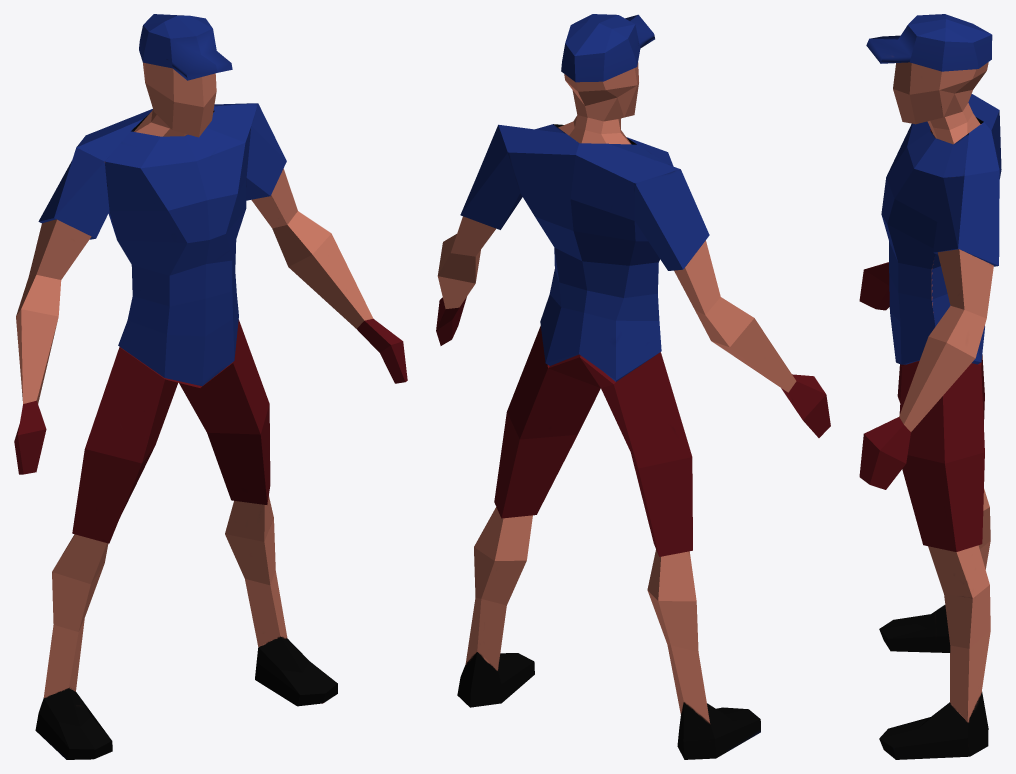
Rendered from Modelo_base.glb.
3 views of the same model, side by side, from view 1: azimuth 30°, elevation 25°; view 2: azimuth 150°, elevation 25°; view 3: azimuth 270°, elevation 25° (orthographic). The views are drawn at different scales.
Parts seen in each view (by area): view 1: BASE_Low Poly Man; view 2: BASE_Low Poly Man; view 3: BASE_Low Poly Man.
Boxes of the visible parts, left/top/right/bottom form: BASE_Low Poly Man: left=14, top=14, right=407, bottom=759; BASE_Low Poly Man: left=436, top=14, right=830, bottom=759; BASE_Low Poly Man: left=859, top=14, right=1001, bottom=759.
Size of the model in its own units: 3.36 by 5.77 by 1.1.
Materials: 1 (1 with a texture image).
